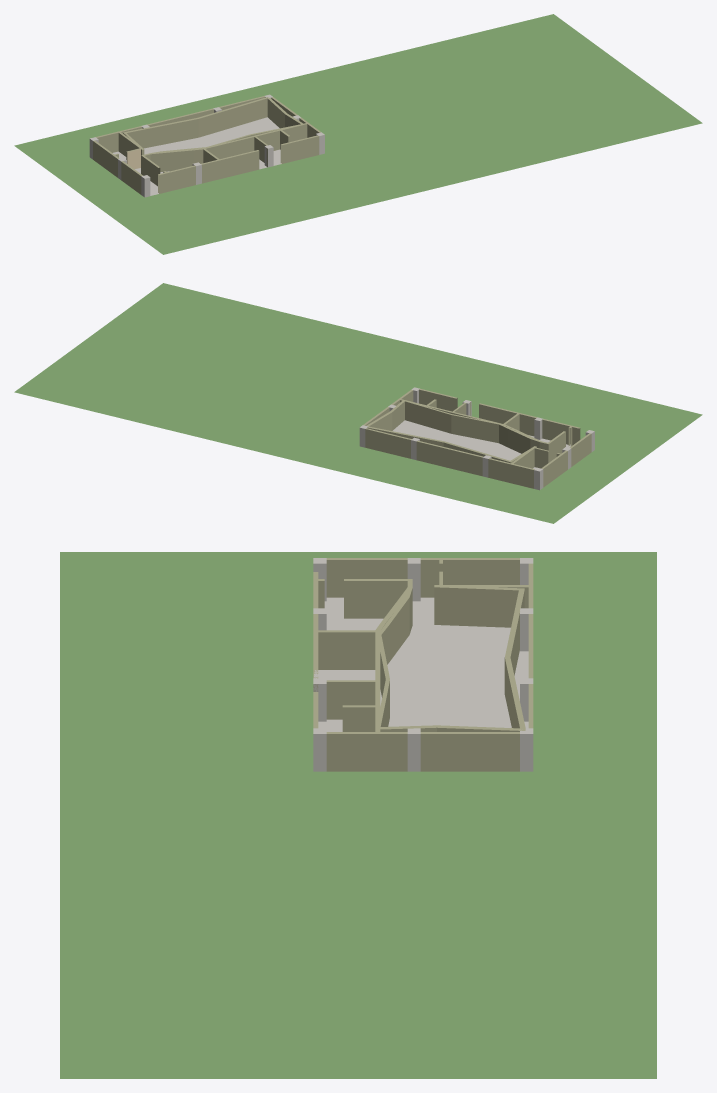
Rendered from lab.glb.
The picture shows the model from 3 angles, top to bottom: view 1: azimuth 30°, elevation 25°; view 2: azimuth 150°, elevation 25°; view 3: azimuth 270°, elevation 25°; orthographic projection. The views are drawn at different scales.
Visible parts, largest first — view 1: Lawn, Cube.007, Cube.009; view 2: Lawn, Cube.007, Cube.009; view 3: Lawn, Cube.007, Cube.009.
Boxes of the visible parts, x1,y1,x2,y2 form: Lawn: (14,14,702,254); Cube.007: (93,96,320,194); Cube.009: (89,94,324,197); Lawn: (14,283,702,523); Cube.007: (363,388,591,488); Cube.009: (359,387,594,490); Lawn: (60,552,656,1078); Cube.007: (313,558,533,771); Cube.009: (313,558,533,771).
Size of the model in its own units: 96 by 3.21 by 46.
